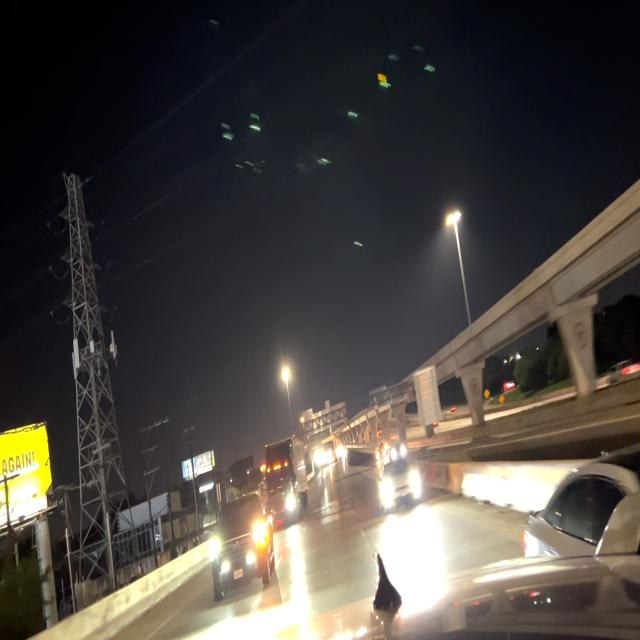back-of-sign: (412, 365, 444, 430), (299, 398, 348, 440), (368, 383, 394, 411)
